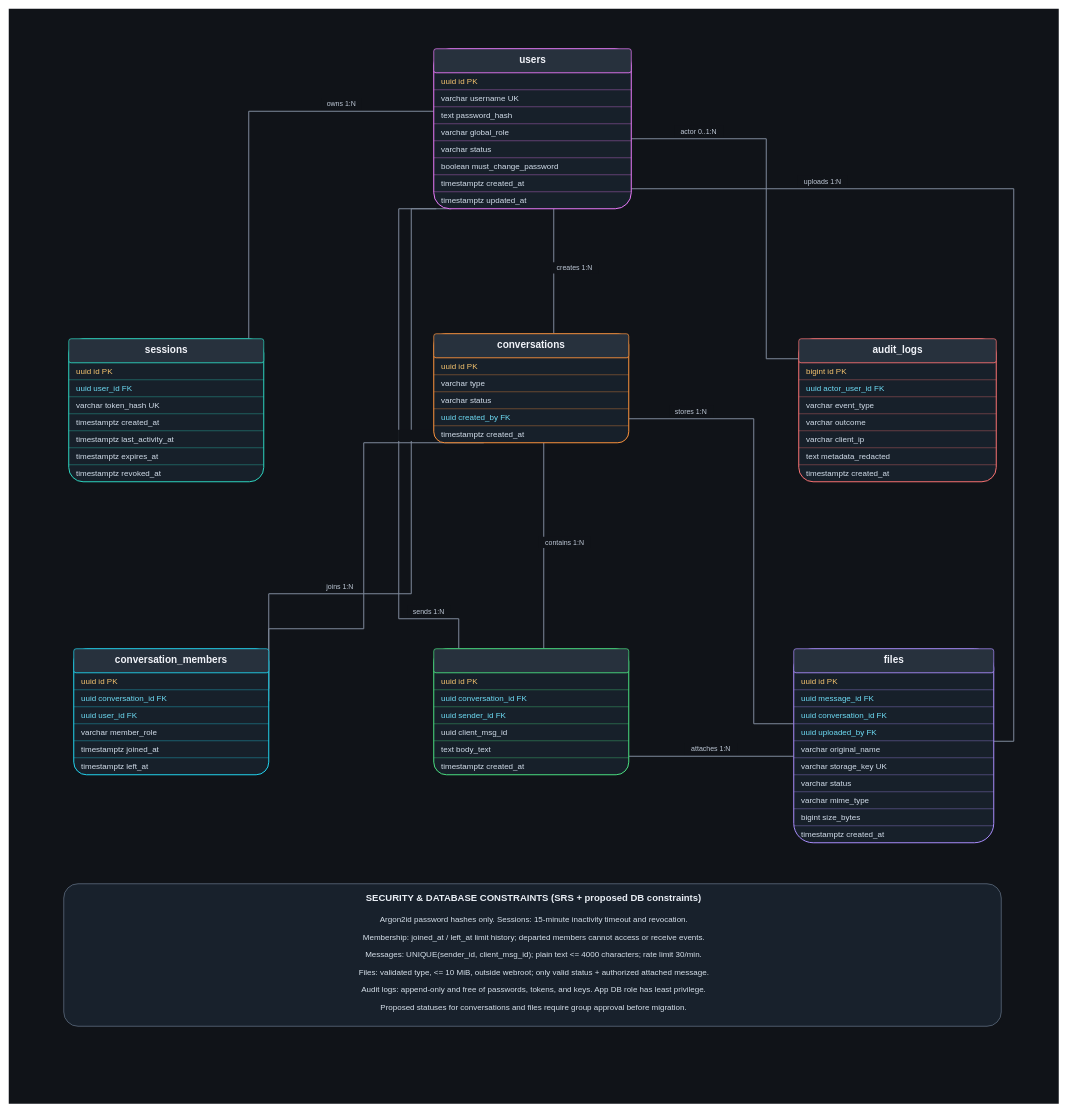
Some shapes in this 1067 by 1112 pixel diagram are drawn without their labels. The shapes that lost their labels are listed below. From the top down, each one's centre as x and y in pixels, then its label:
the point at 423,435: includes 1:N
the point at 531,660: messages
